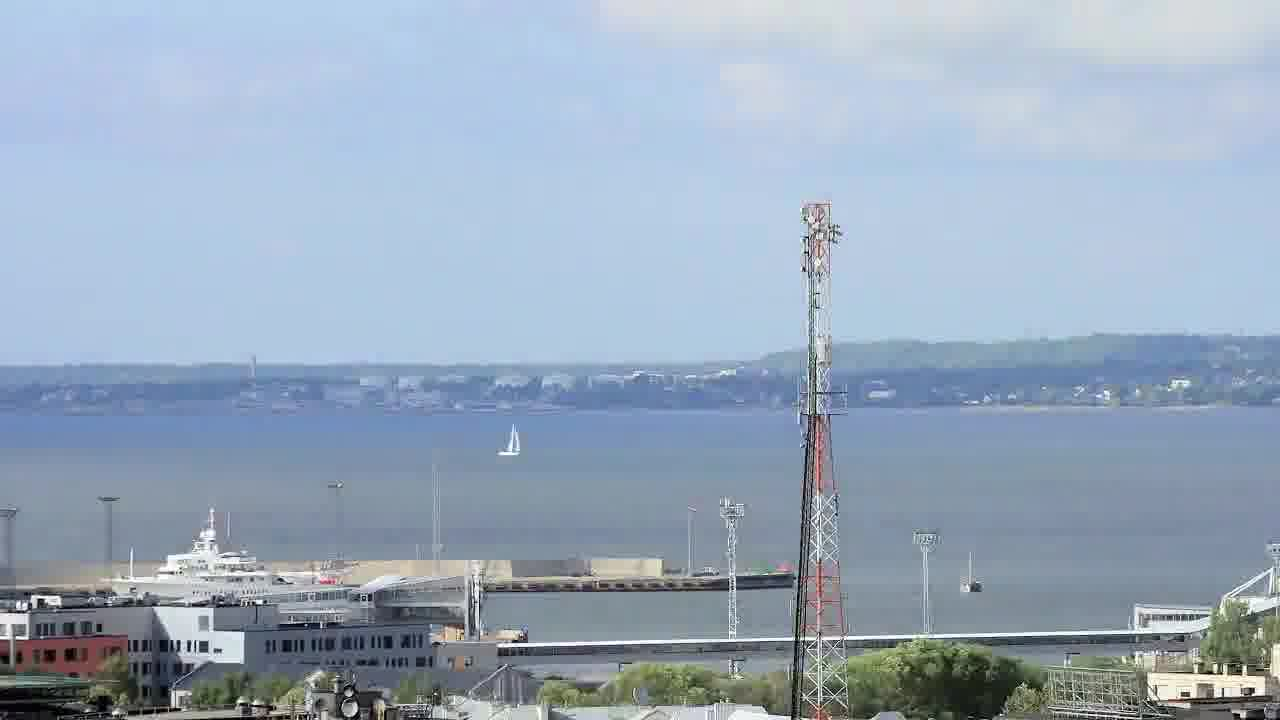type-0: (946, 560, 995, 618)
type-2: (488, 420, 546, 464)
type-3: (98, 503, 361, 603)
